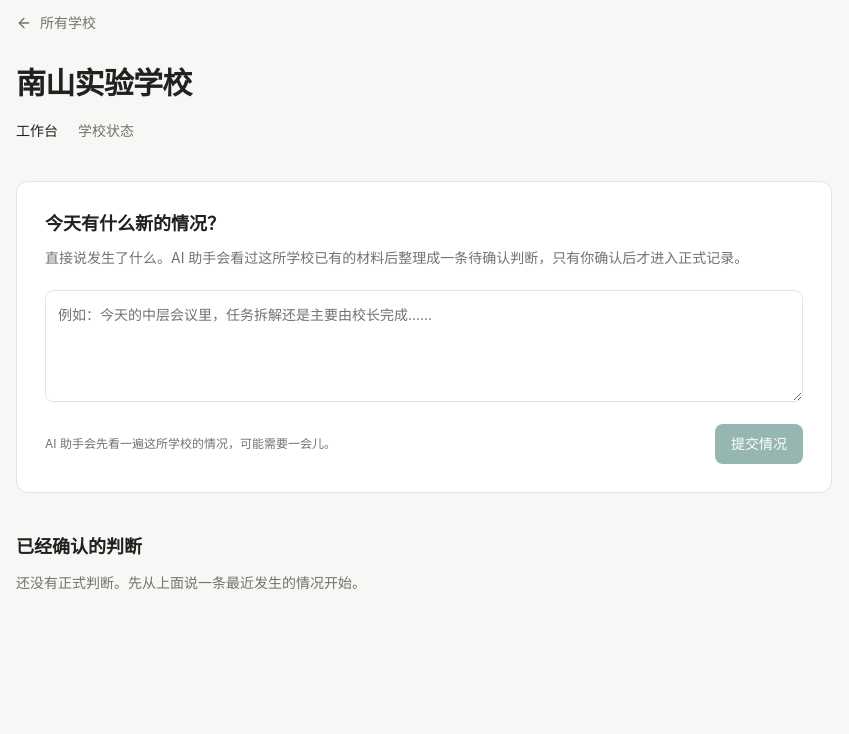
Test case: the workbench when the assistant can run › lets a school with no stage start: the assistant proposes the first stage
This screenshot has width=849, height=734.
Expected: the text "AI 助手会先看一遍这所学校的情况，可能需要一会儿。" is shown, top-left (45, 436), bottom-right (336, 452)
Type "教研组把三节课的记录贴到了公共墙上。" into the text box with placeholder "例如：今天的中层会议里，任务拆解还是主要由校长完成……". click: (424, 346)
box: top-left (45, 290), bottom-right (803, 402)
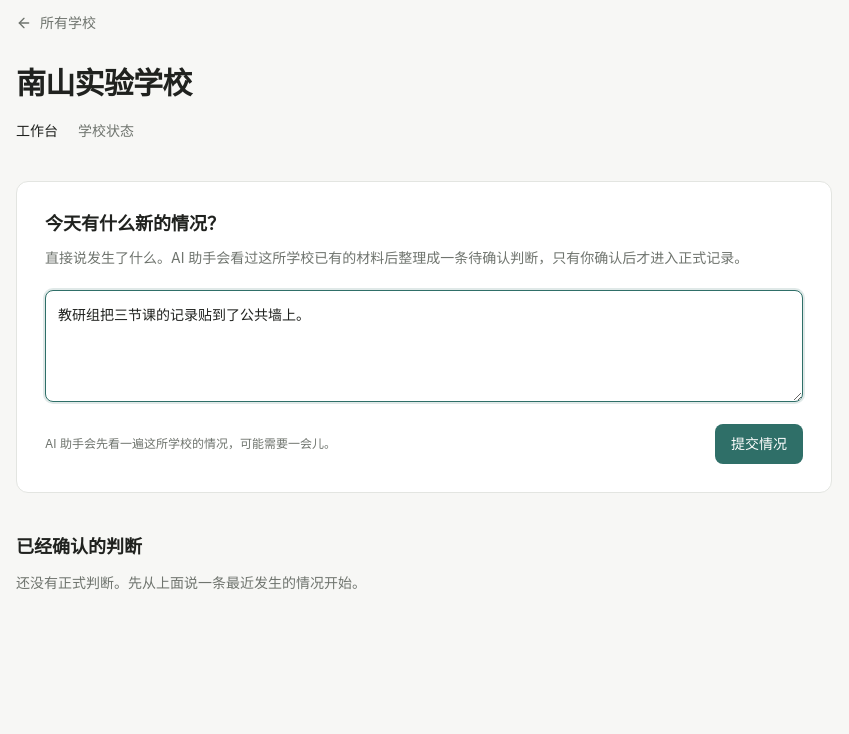
Click the button "提交情况". click: (759, 444)
box: top-left (715, 424), bottom-right (803, 464)
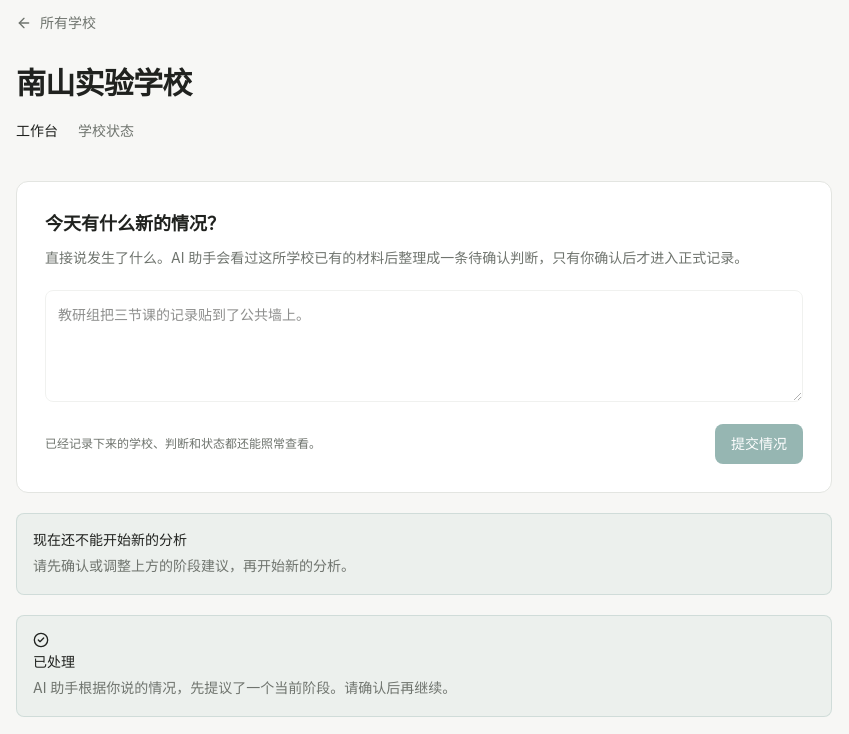
Expected: the text "AI 助手根据你说的情况，先提议了一个当前阶段。请确认后再继续。" is shown, top-left (33, 679), bottom-right (456, 696)
Expected: the button "提交情况" is disabled, top-left (715, 424), bottom-right (803, 464)
